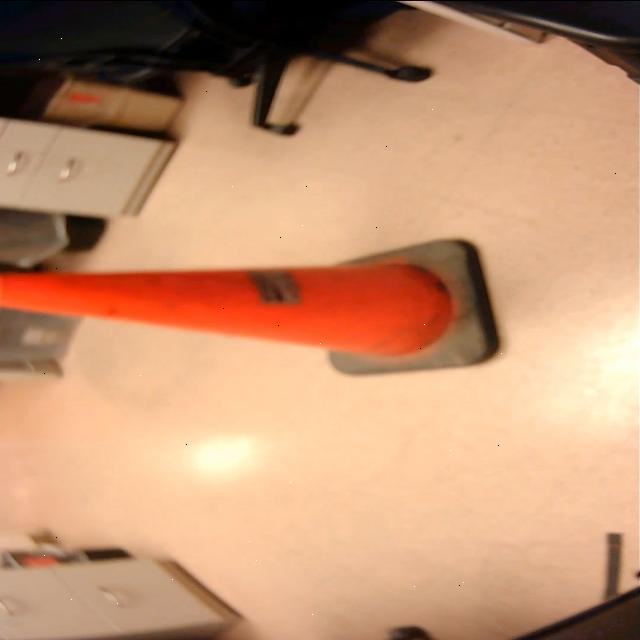traffic cone: (1, 234, 506, 382)
